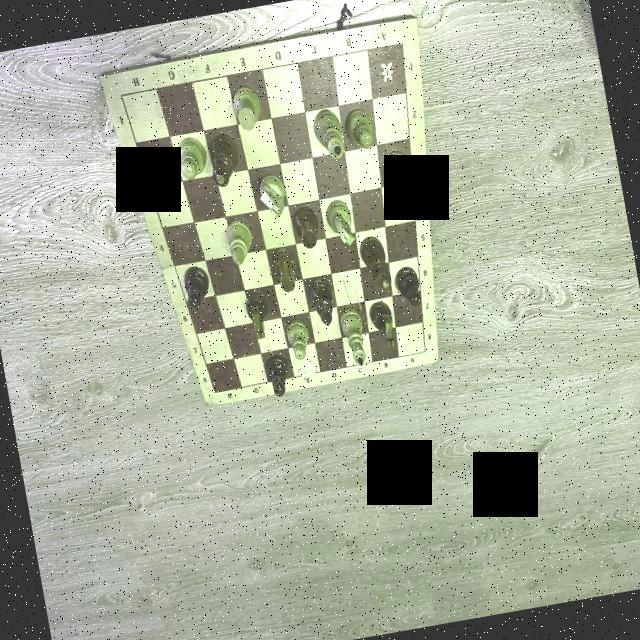chess-table-corners: (113, 85, 129, 104), (395, 36, 409, 51), (210, 386, 220, 398), (420, 346, 429, 357)
